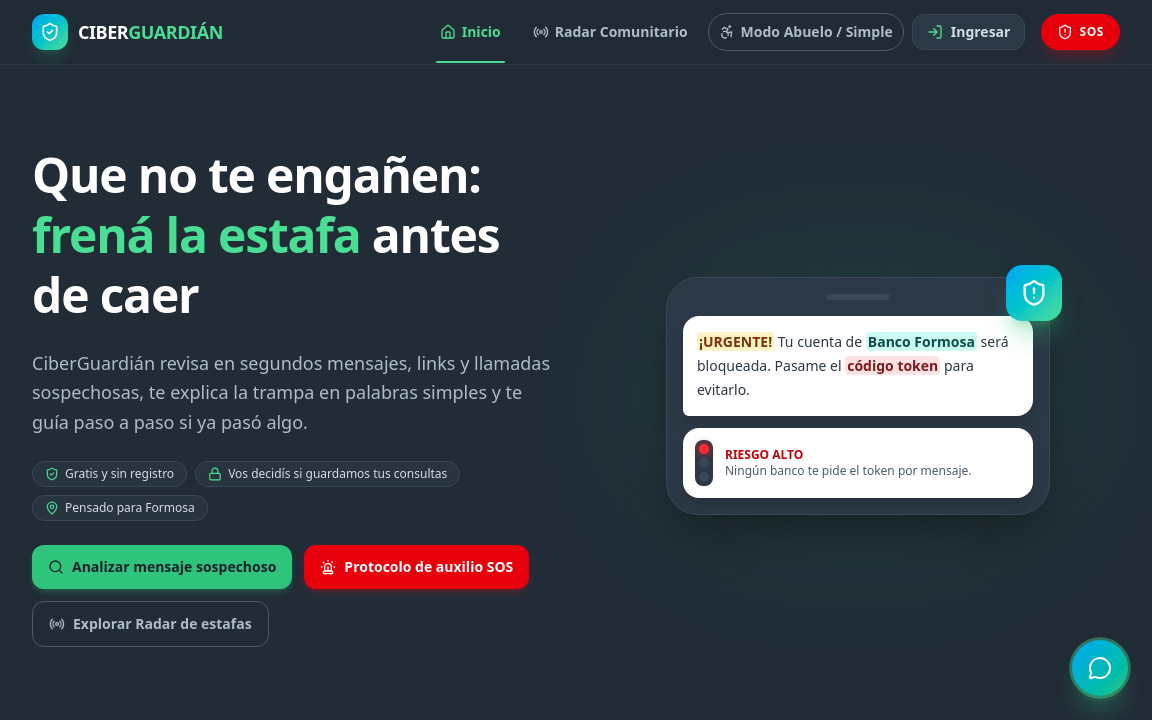
Test: App: landing y navegación › el ítem "Inicio" vuelve a la landing
Click the button "Radar Comunitario".
click(610, 32)  # box [521,14,700,50]
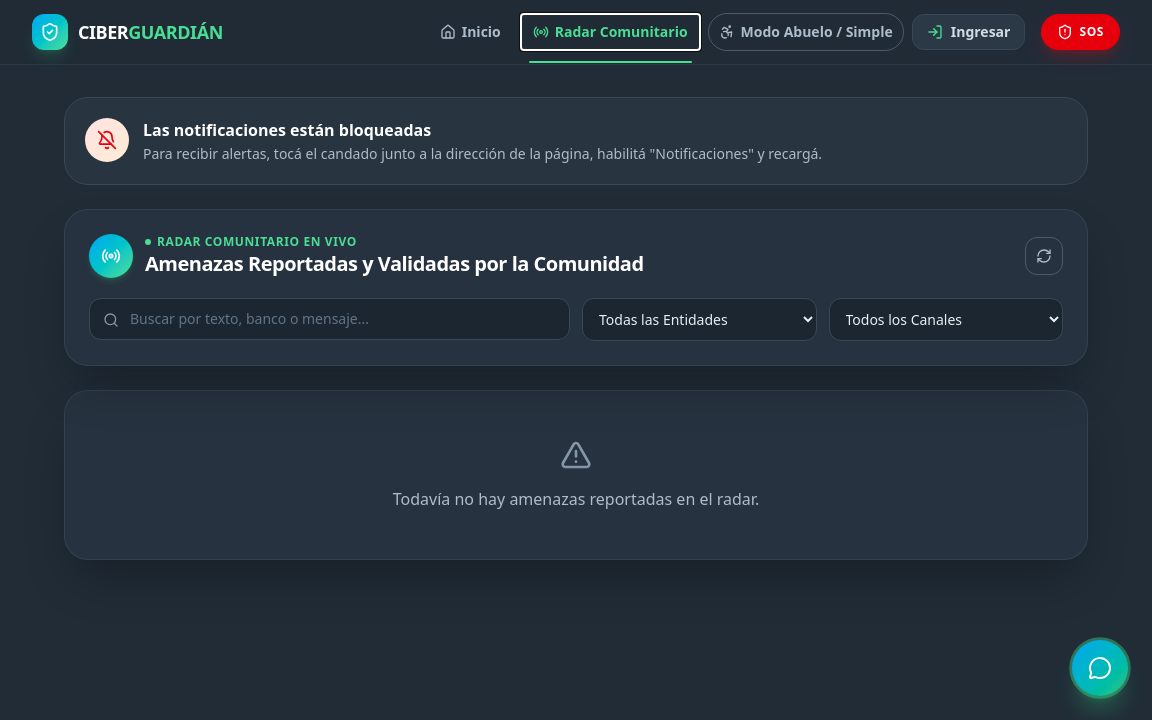
Click the button "Inicio".
click(470, 32)  # box [428,14,513,50]
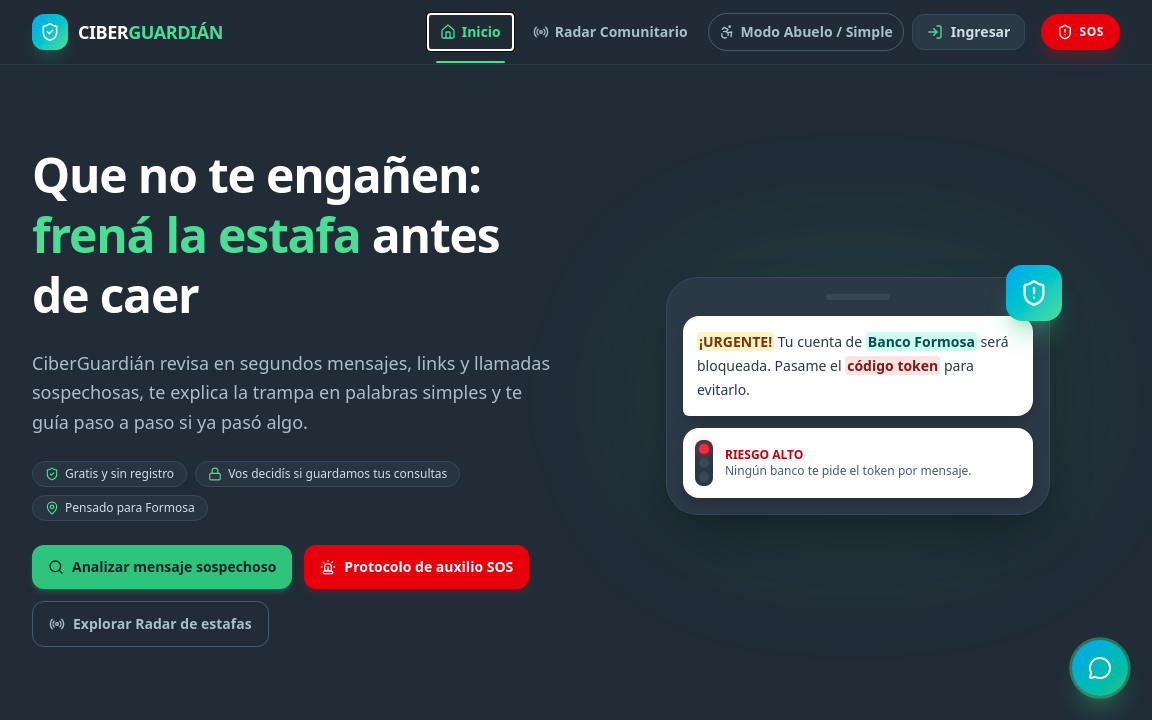
Check: the heading "Que no te engañen: frená la estafa antes de caer" is shown, box [32,145,556,325]
